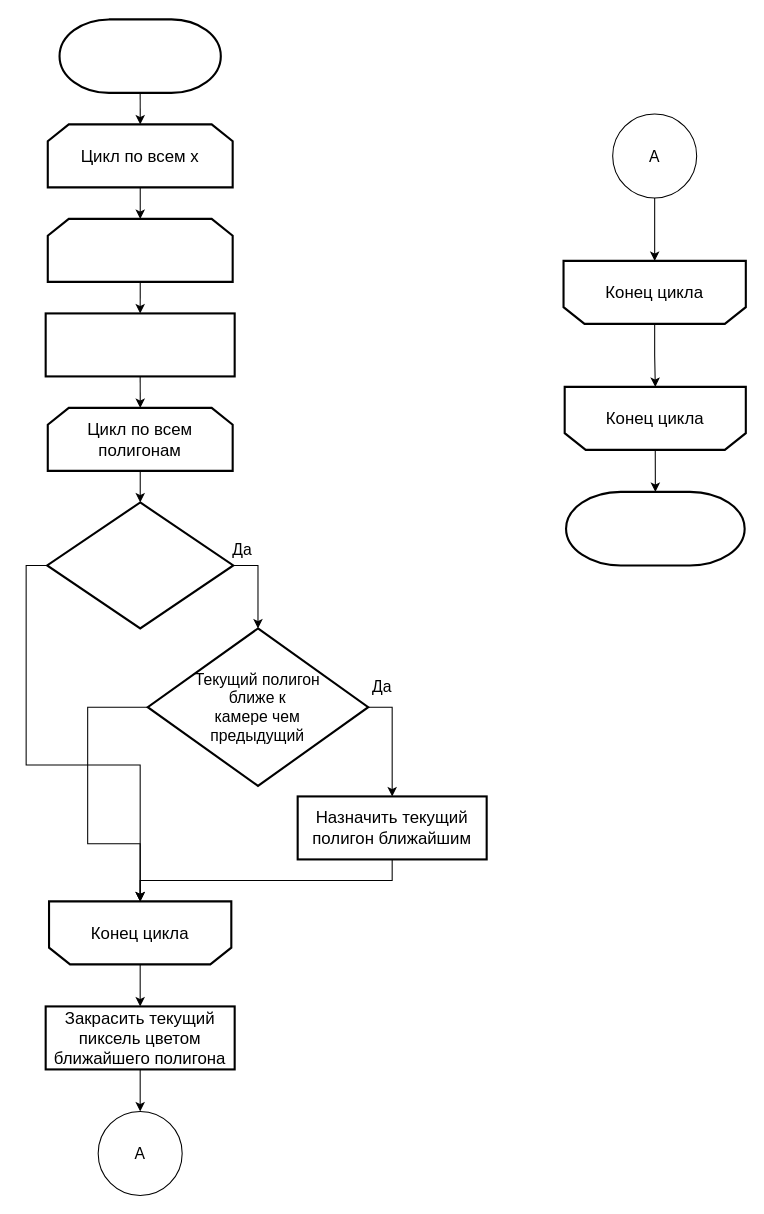
This 764x1214 diagram has some shape labels left out. Each missing label, with the centre of its shape:
Конец: the point at 654,528
Начало: the point at 139,55
Пересекает луч текущий полигон: the point at 140,565
расчитать текущий луч: the point at 139,344
Цикл по всем y: the point at 139,249
